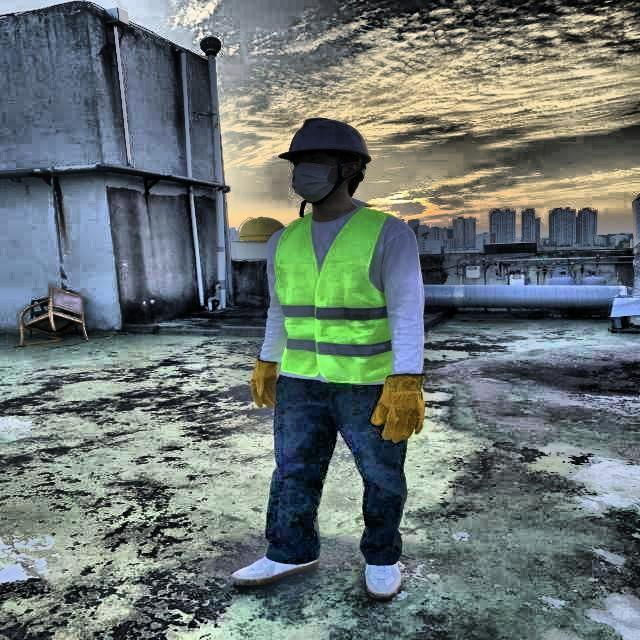safety_jacket: (281, 209, 396, 384)
